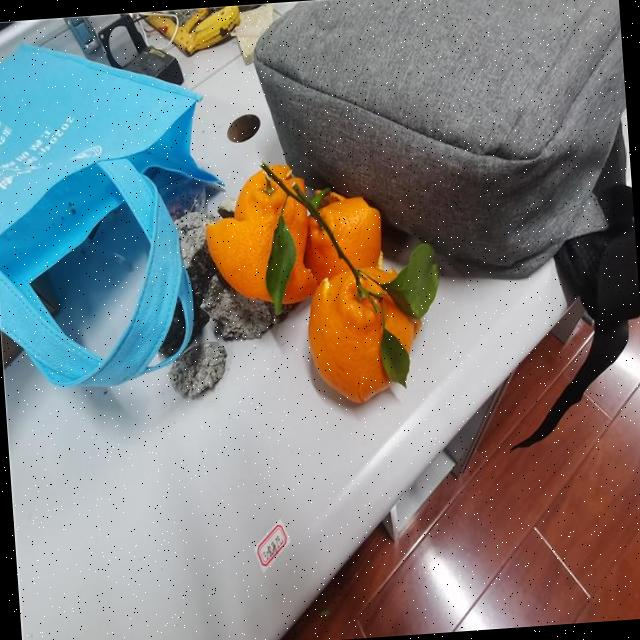orange-peel: (198, 150, 429, 414), (302, 261, 426, 407)
